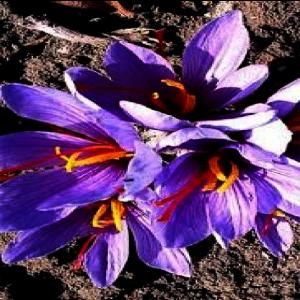Saffron: (67, 7, 272, 122), (0, 76, 130, 211), (3, 182, 175, 284), (155, 125, 300, 242)
